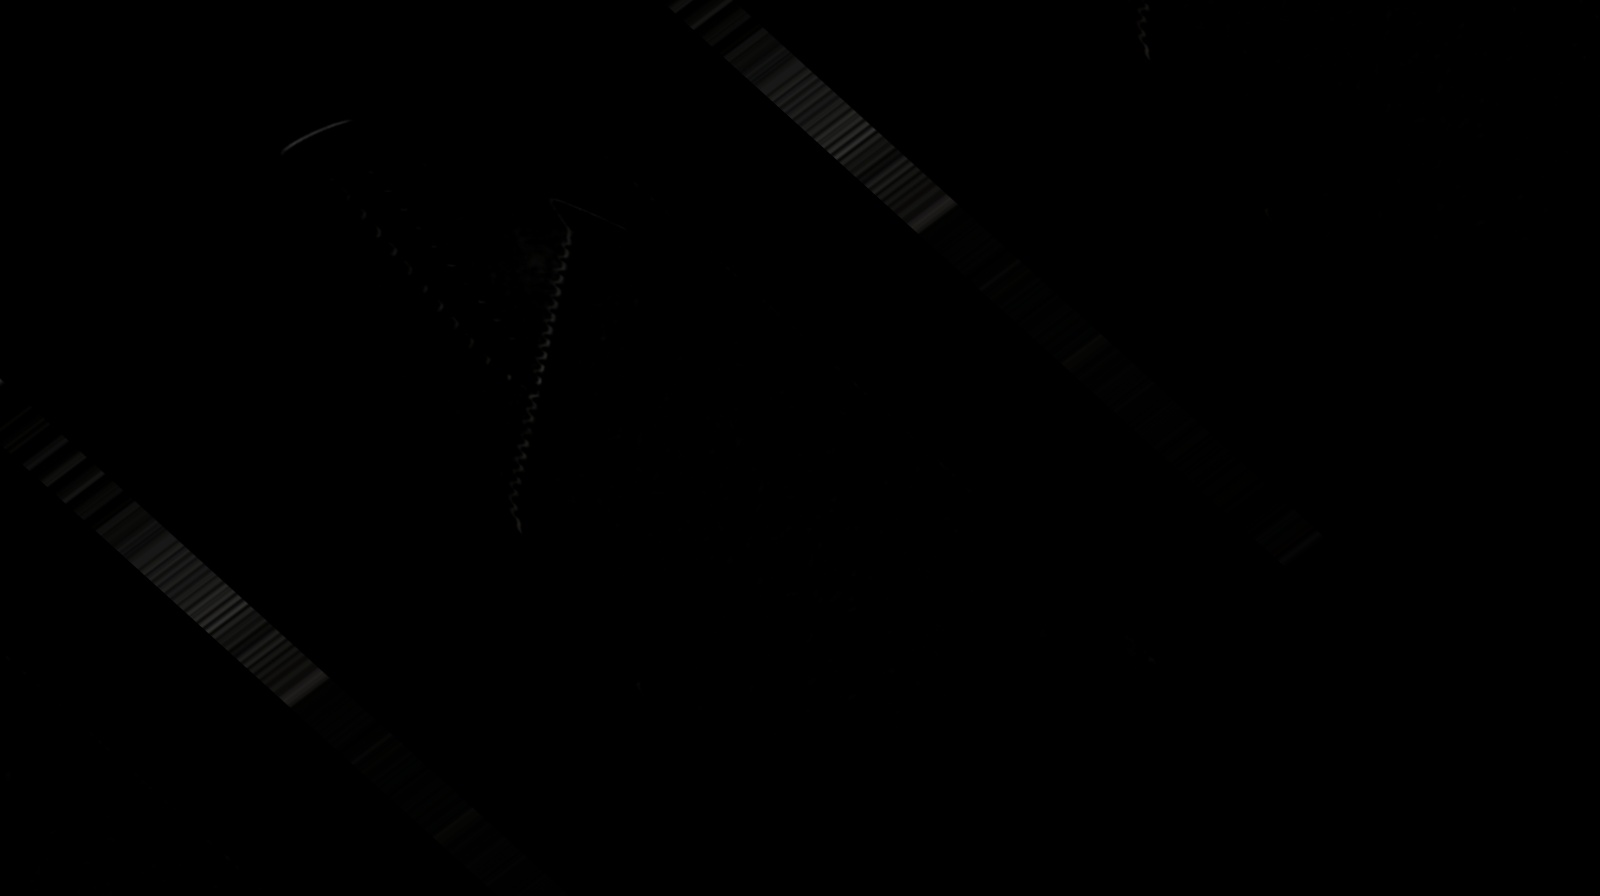S001: (251, 96, 612, 411)
S002: (316, 168, 789, 558)
